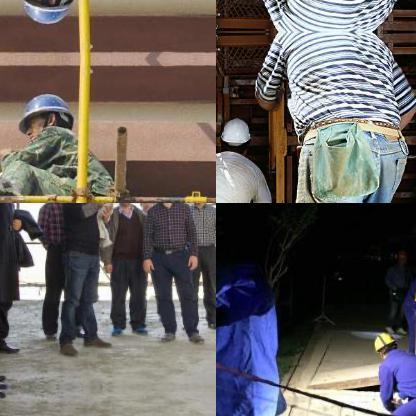Helmet: (12, 85, 76, 144), (11, 0, 78, 31), (219, 114, 251, 156), (370, 330, 398, 356), (136, 203, 158, 213)
